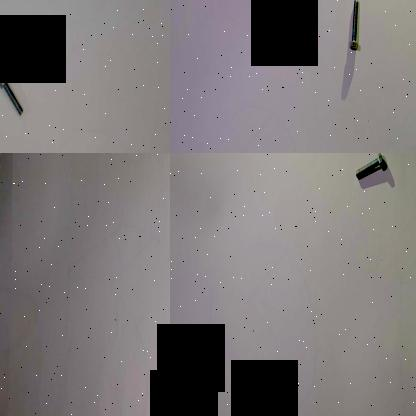Bolts: (0, 71, 30, 118), (352, 153, 387, 183), (347, 0, 361, 57)
